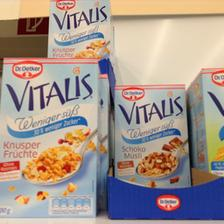Cerealien: (0, 57, 98, 217), (112, 83, 192, 188), (46, 0, 110, 60)
